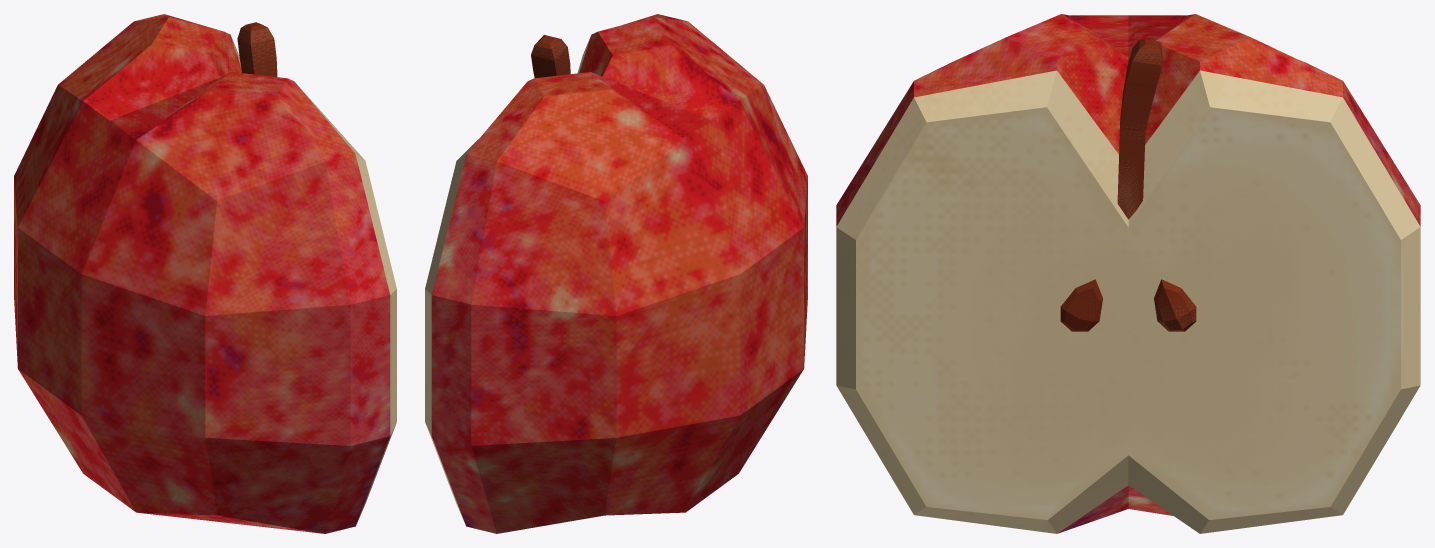
Rendered from apple_stage1.fbx.
3 renders of one model, left to right at view 1: azimuth 30°, elevation 25°; view 2: azimuth 150°, elevation 25°; view 3: azimuth 270°, elevation 25°, orthographic. The views are drawn at different scales.
Parts seen in each view (by area): view 1: Apple, Stem; view 2: Apple, Stem; view 3: Apple, Stem, Seeds.
Boxes of the visible parts, x1,y1,x2,y2 form: Apple: (14,14,396,533); Stem: (237,22,277,76); Apple: (425,14,807,533); Stem: (531,35,570,78); Apple: (836,14,1420,533); Stem: (1117,39,1162,219); Seeds: (1060,279,1196,331).
Size of the model in its own units: 1214 by 2329 by 2211.
